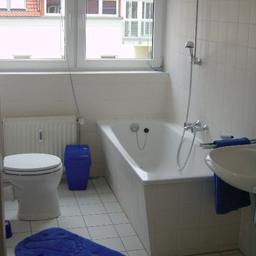Bote de Basura: (66, 142, 93, 192)
Lavamanos: (208, 147, 255, 192)
Sanitario: (4, 151, 66, 219)
Ventana: (1, 1, 161, 72)
